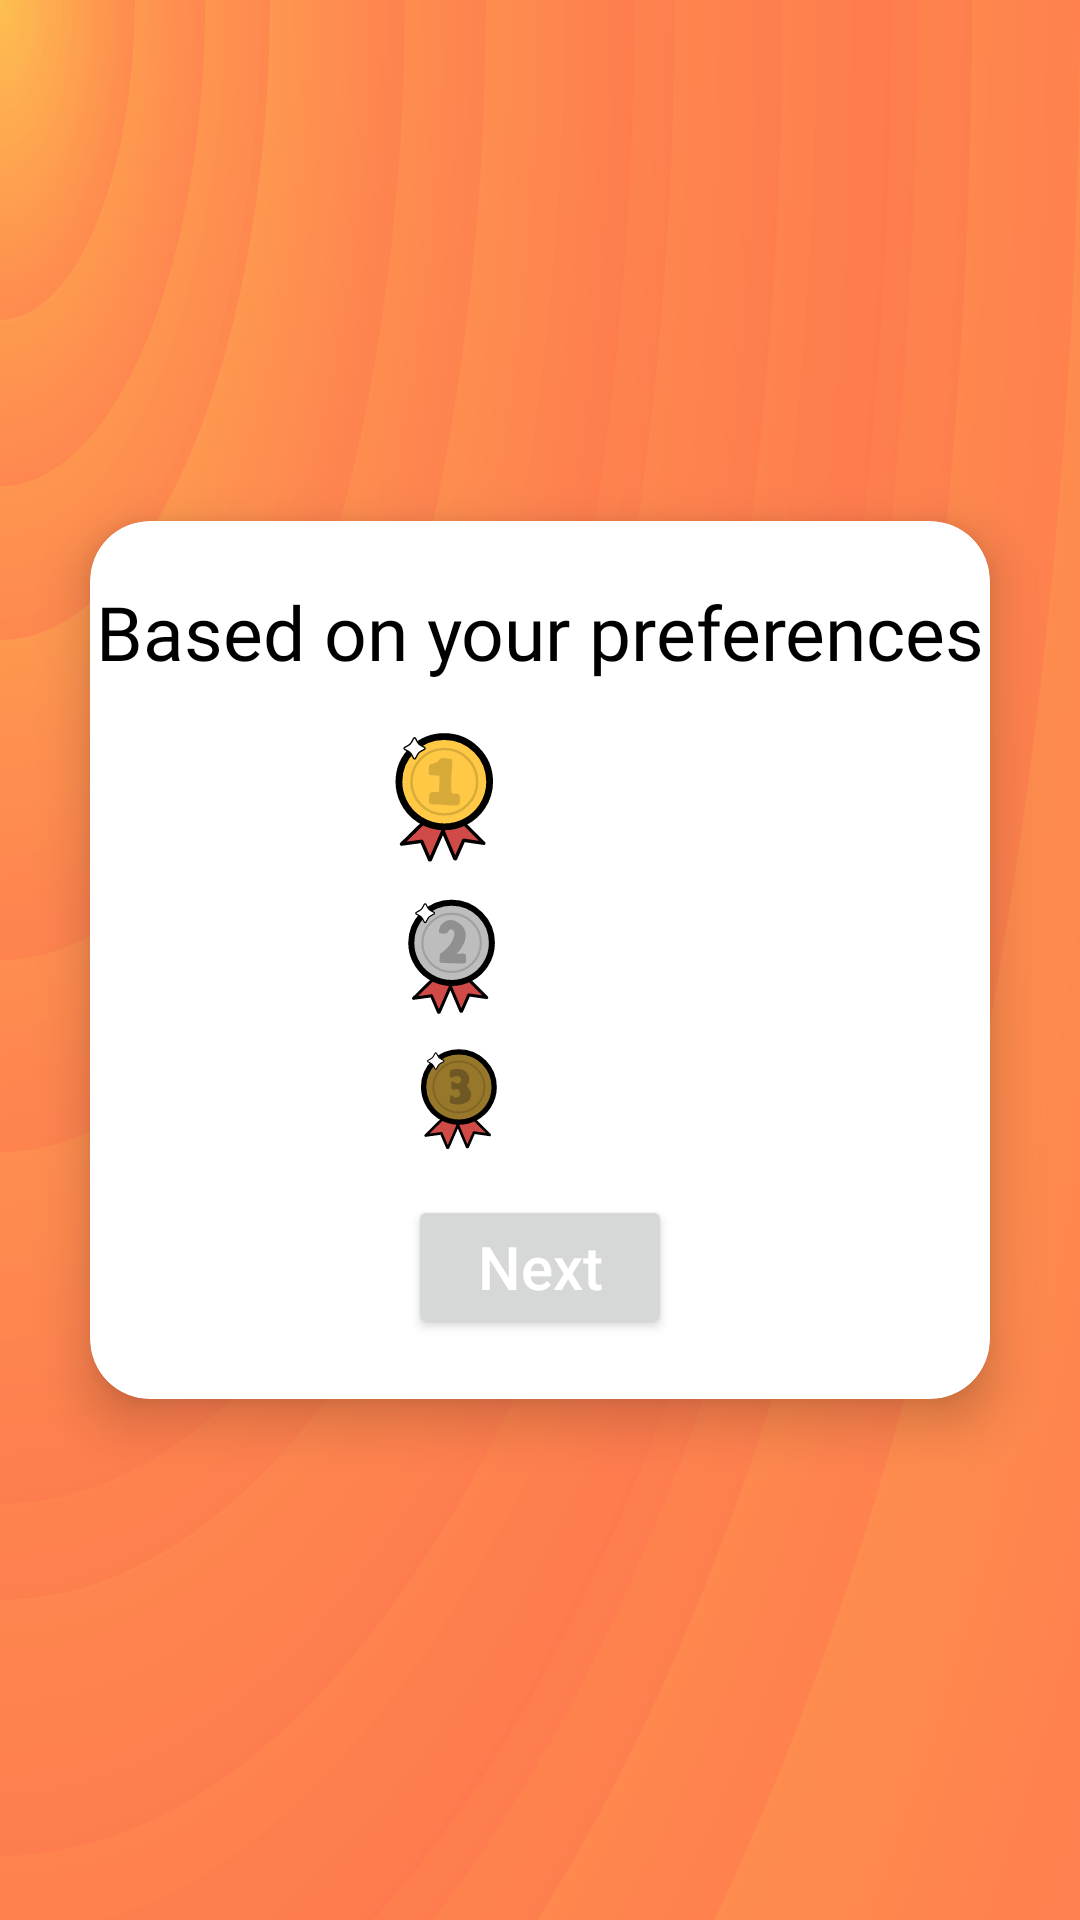

Where icons sit on this 1080 × 1920 app screen, as (x1, y1, x2, y2):
copper medal: (421, 1049, 497, 1149)
golden medal: (395, 733, 493, 862)
silver medal: (408, 899, 495, 1014)
